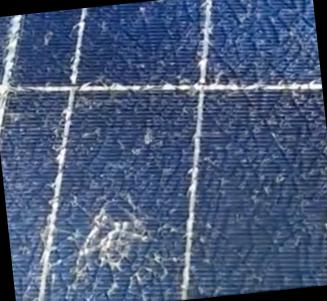Crack: (46, 186, 170, 289)
